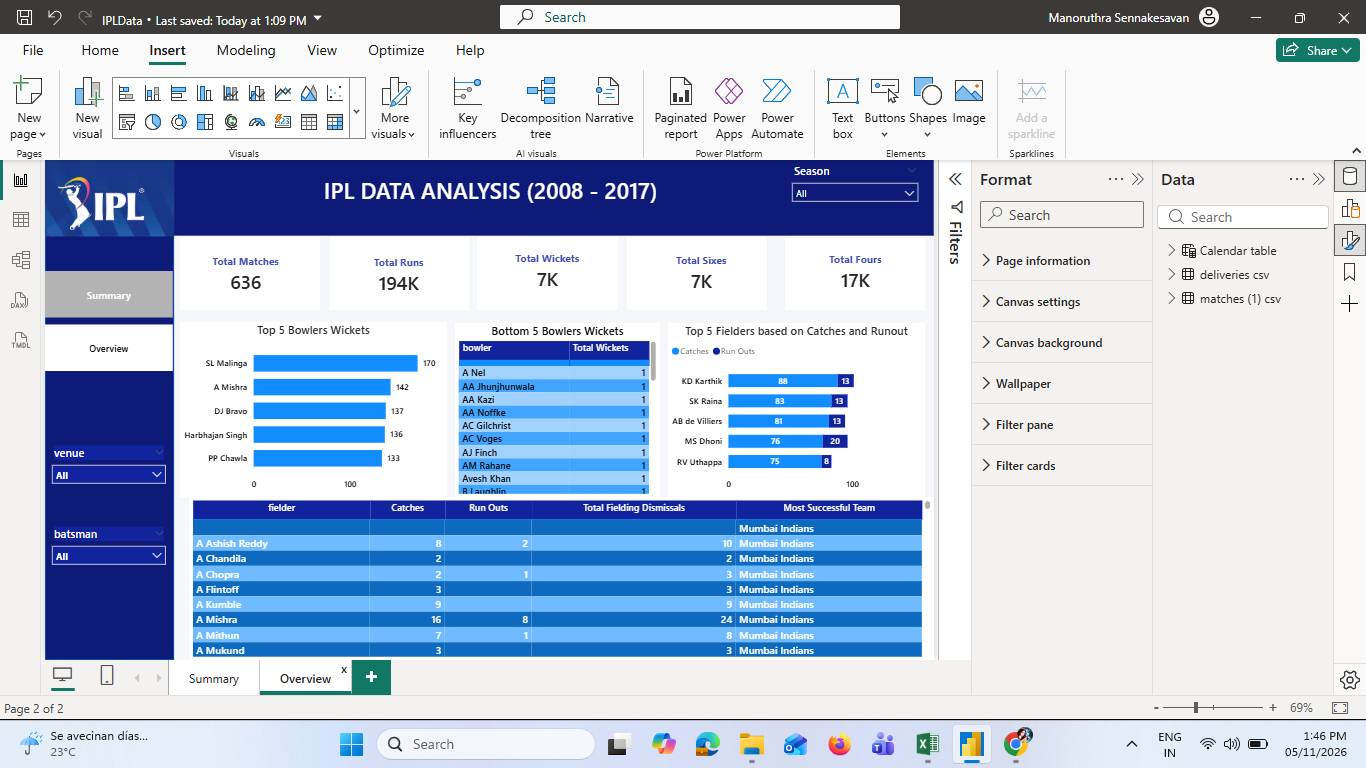

The page's visual inventory and layout, read from the dashboard file:
{"tool":"powerbi","page":{"name":"Overview","canvas":[1280,720],"ordinal":1},"visuals":[{"type":"shape","box":[1065.5,112.6,202,103.7],"z":0},{"type":"shape","box":[194.9,110.8,202,105.5],"z":1000},{"type":"shape","box":[185.9,0,1094.1,109.1],"z":2000},{"type":"textbox","box":[270.7,16.1,671.7,67.3],"z":3000},{"type":"shape","box":[0,0,185.9,720],"z":4000},{"type":"image","box":[0,0,185.9,109.8],"z":5000},{"type":"shape","box":[409,110.9,201.6,105.1],"z":6000},{"type":"cardVisual","fields":{"Data":["matches (1) csv.Total Runs"]},"box":[414.7,112.6,189.5,105.5],"z":7000},{"type":"shape","box":[622.1,110.9,203,105.1],"z":8000},{"type":"cardVisual","fields":{"Data":["matches (1) csv.Total Wickets"]},"box":[627.5,107.3,191.3,105.5],"z":9000},{"type":"shape","box":[838.1,110.9,201.6,105.1],"z":10000},{"type":"cardVisual","fields":{"Data":["matches (1) csv.Total Sixes"]},"box":[849.2,110.8,191.3,103.7],"z":11000},{"type":"slicer","fields":{"Values":["matches (1) csv.season"]},"box":[1065.5,0,202,105.5],"z":12000},{"type":"cardVisual","fields":{"Data":["matches (1) csv.Total Fours"]},"box":[1070.8,109.1,191.3,103.7],"z":13000},{"type":"clusteredBarChart","title":"Top 5 Bowlers Wickets","fields":{"Category":["deliveries csv.bowler"],"Y":["matches (1) csv.Total Wickets"]},"box":[194.4,233.3,384.5,252],"z":14000},{"type":"tableEx","title":"Bottom 5 Bowlers Wickets","fields":{"Values":["deliveries csv.bowler","matches (1) csv.Total Wickets"]},"box":[590.4,234.7,295.2,250.6],"z":15000},{"type":"cardVisual","fields":{"Data":["matches (1) csv.Total Matches"]},"box":[194.9,110.8,189.5,105.5],"z":16000},{"type":"barChart","title":"Top 5 Fielders based on Catches and Runout","fields":{"Y":["matches (1) csv.Catches","matches (1) csv.Run Outs"],"Category":["deliveries csv.fielder"]},"box":[897.1,234.7,370.1,250.6],"z":17000},{"type":"tableEx","fields":{"Values":["deliveries csv.fielder","matches (1) csv.Catches","matches (1) csv.Run Outs","deliveries csv.Total Fielding Dismissals","matches (1) csv.Most Successful Team"]},"box":[207.4,485.3,1072.8,234.7],"z":18000},{"type":"slicer","fields":{"Values":["matches (1) csv.venue"]},"box":[0,405.8,184.1,78.7],"z":20000},{"type":"slicer","fields":{"Values":["deliveries csv.batsman"]},"box":[0,522,184.1,80.4],"z":21000},{"type":"pageNavigator","box":[0,159.8,184.3,145.4],"z":21001}]}

Visuals, with their boxes on the page's 1280x720 design canvas (x1, y1, x2, y2). These are canvas units, not pixel positions in the 1366x768 screenshot, which may show the page scaled, cropped or inside an application window:
shape: <bbox>1066, 113, 1268, 216</bbox>
shape: <bbox>195, 111, 397, 216</bbox>
shape: <bbox>186, 0, 1280, 109</bbox>
textbox: <bbox>271, 16, 942, 83</bbox>
shape: <bbox>0, 0, 186, 720</bbox>
image: <bbox>0, 0, 186, 110</bbox>
shape: <bbox>409, 111, 611, 216</bbox>
cardVisual - matches (1) csv.Total Runs: <bbox>415, 113, 604, 218</bbox>
shape: <bbox>622, 111, 825, 216</bbox>
cardVisual - matches (1) csv.Total Wickets: <bbox>628, 107, 819, 213</bbox>
shape: <bbox>838, 111, 1040, 216</bbox>
cardVisual - matches (1) csv.Total Sixes: <bbox>849, 111, 1040, 214</bbox>
slicer - matches (1) csv.season: <bbox>1066, 0, 1268, 106</bbox>
cardVisual - matches (1) csv.Total Fours: <bbox>1071, 109, 1262, 213</bbox>
"Top 5 Bowlers Wickets" clusteredBarChart: <bbox>194, 233, 579, 485</bbox>
"Bottom 5 Bowlers Wickets" tableEx: <bbox>590, 235, 886, 485</bbox>
cardVisual - matches (1) csv.Total Matches: <bbox>195, 111, 384, 216</bbox>
"Top 5 Fielders based on Catches and Runout" barChart: <bbox>897, 235, 1267, 485</bbox>
tableEx - deliveries csv.fielder x matches (1) csv.Catches: <bbox>207, 485, 1280, 720</bbox>
slicer - matches (1) csv.venue: <bbox>0, 406, 184, 484</bbox>
slicer - deliveries csv.batsman: <bbox>0, 522, 184, 602</bbox>
pageNavigator: <bbox>0, 160, 184, 305</bbox>
